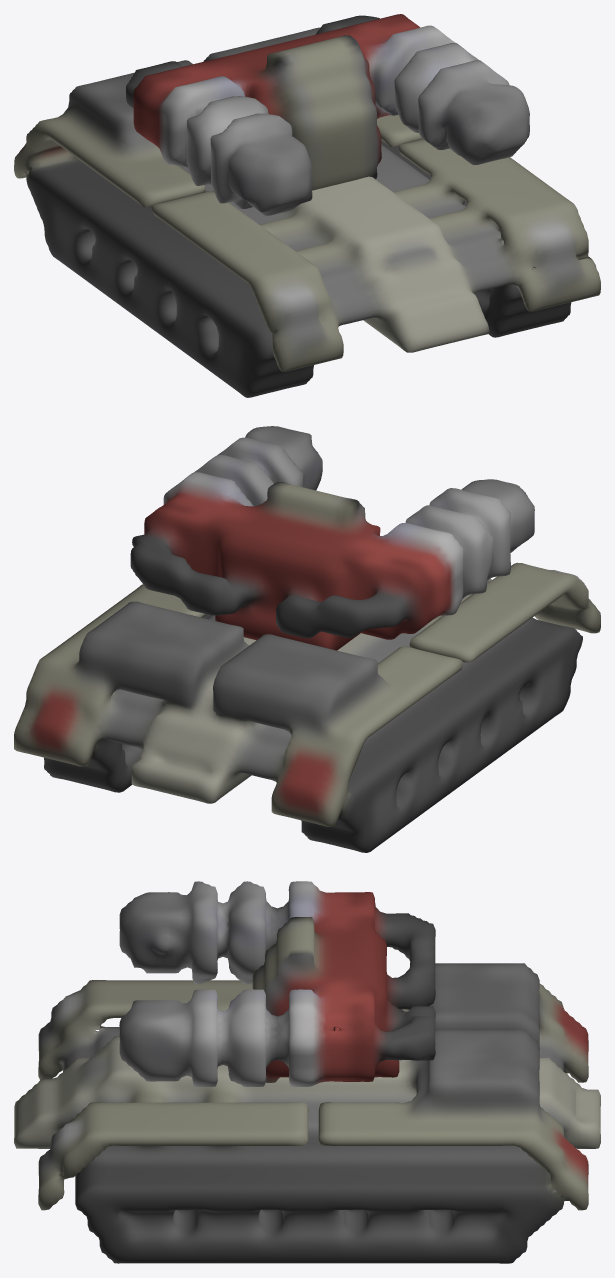
The model's file is ttnk.glb.
The picture shows the model from 3 angles, top to bottom: view 1: azimuth 30°, elevation 25°; view 2: azimuth 150°, elevation 25°; view 3: azimuth 270°, elevation 25°; orthographic projection.
Visible parts, largest first — view 1: ttnk; view 2: ttnk; view 3: ttnk.
Part boxes in pixels (x1,y1,x2,y2): ttnk: (14, 14, 600, 397); ttnk: (14, 426, 600, 852); ttnk: (14, 881, 600, 1263).
Bounding box in the file's own units: 2.53 × 1.86 × 3.94.
